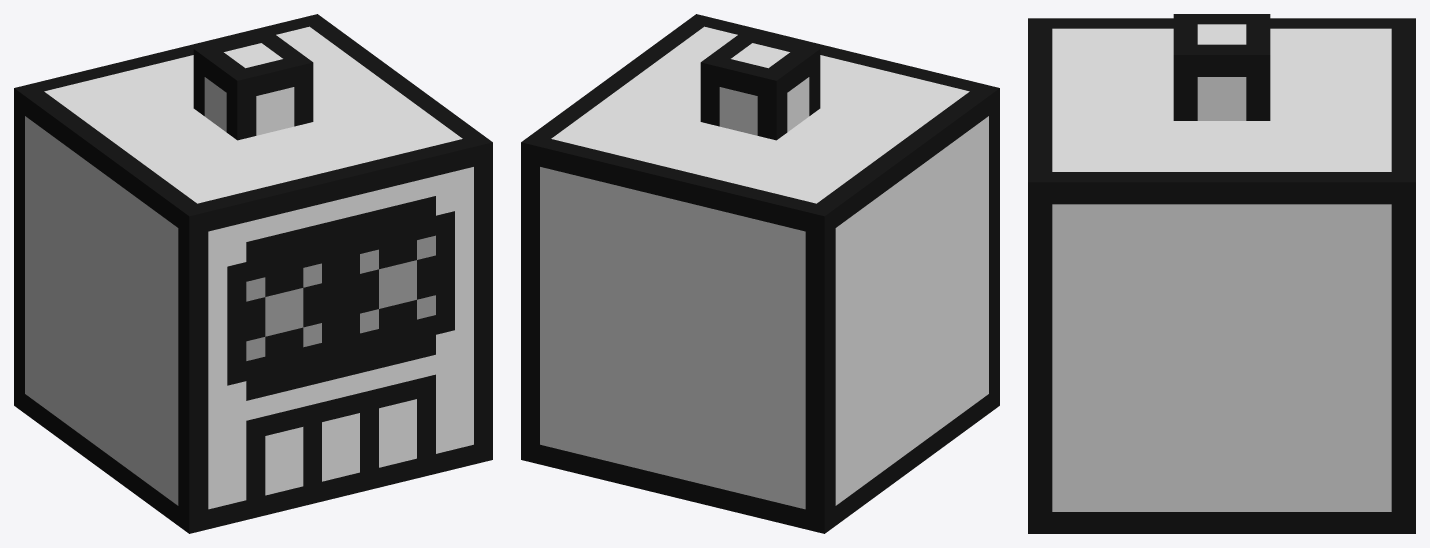
File: tetegris.obj
3 renders of one model, left to right at view 1: azimuth 30°, elevation 25°; view 2: azimuth 150°, elevation 25°; view 3: azimuth 270°, elevation 25°, orthographic. The views are drawn at different scales.
Size of the model in its own units: 1.6 by 1.9 by 1.6.
Materials: 1 (1 with a texture image).
